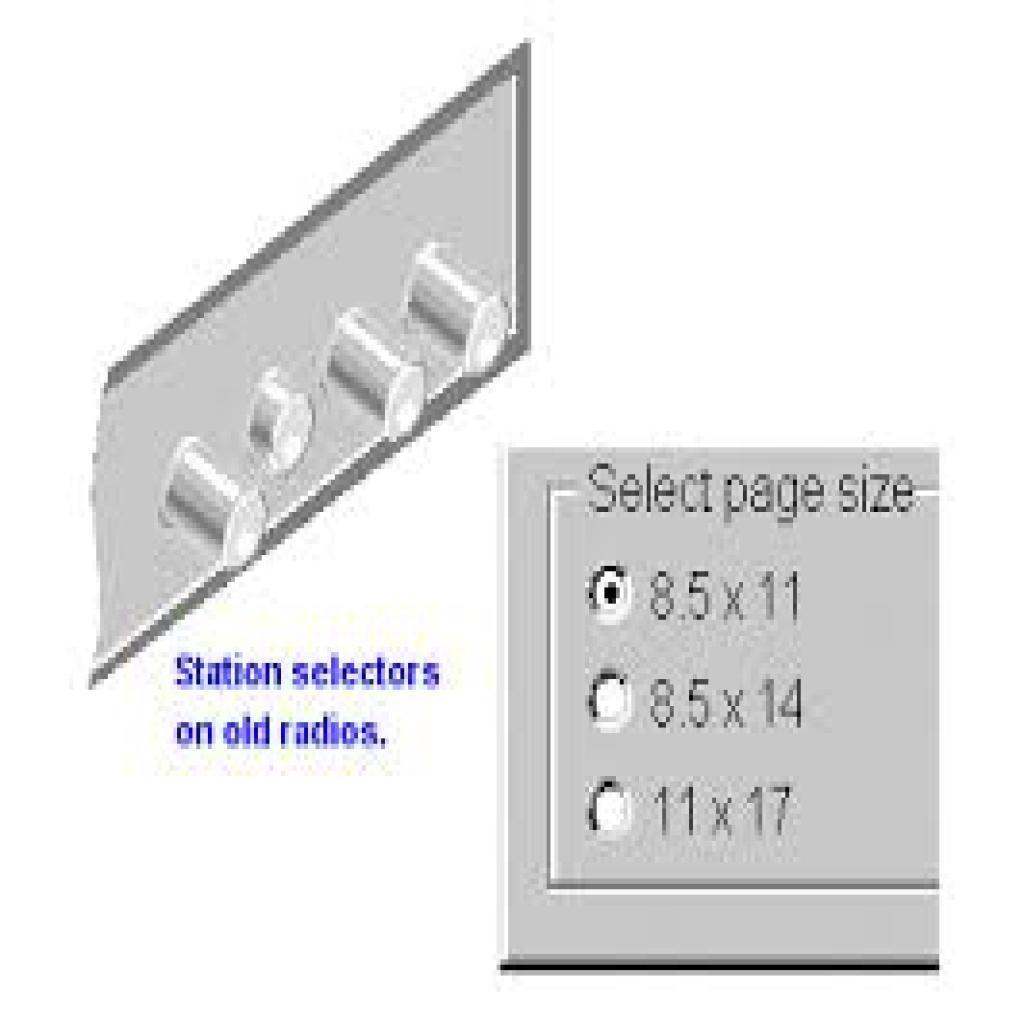radio: (588, 773, 634, 846), (588, 563, 634, 628), (590, 669, 634, 733)
